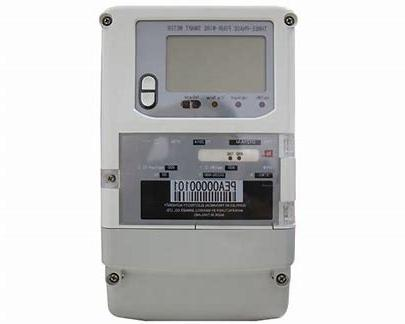digital: (100, 6, 294, 271)
